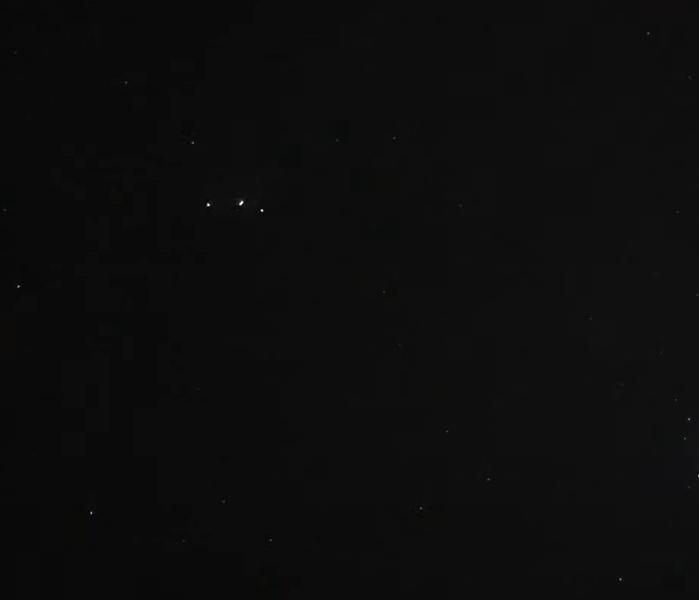Plane: (184, 191, 286, 225)
